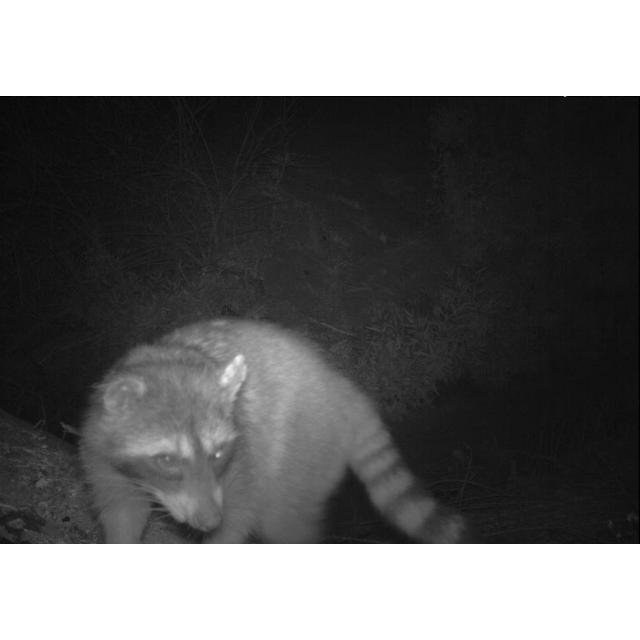animals: (79, 312, 482, 544)
